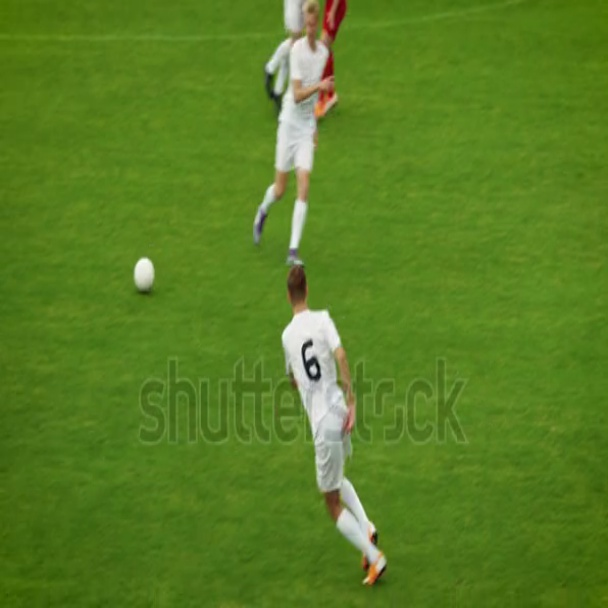ball: (136, 256, 154, 286)
